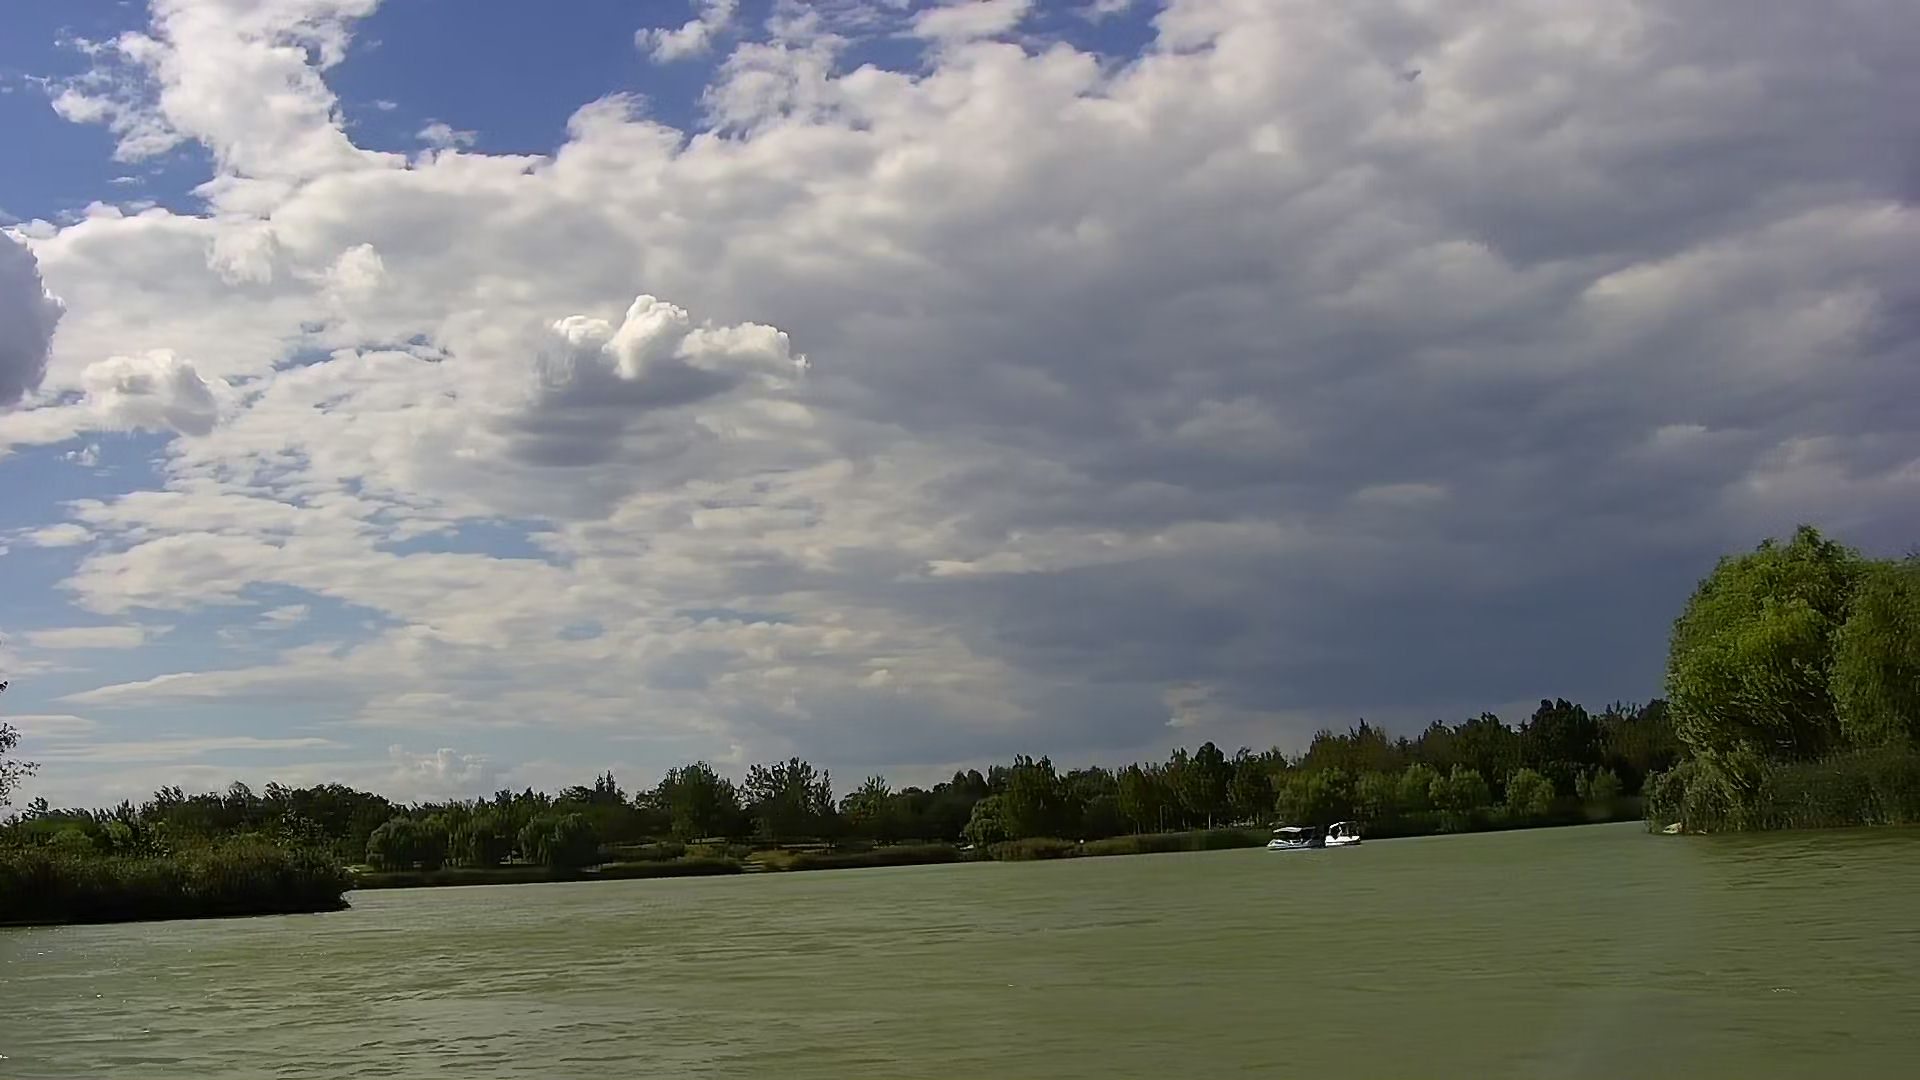boat: (1265, 822, 1317, 855), (1305, 822, 1366, 849)
rock: (1659, 818, 1683, 841)
